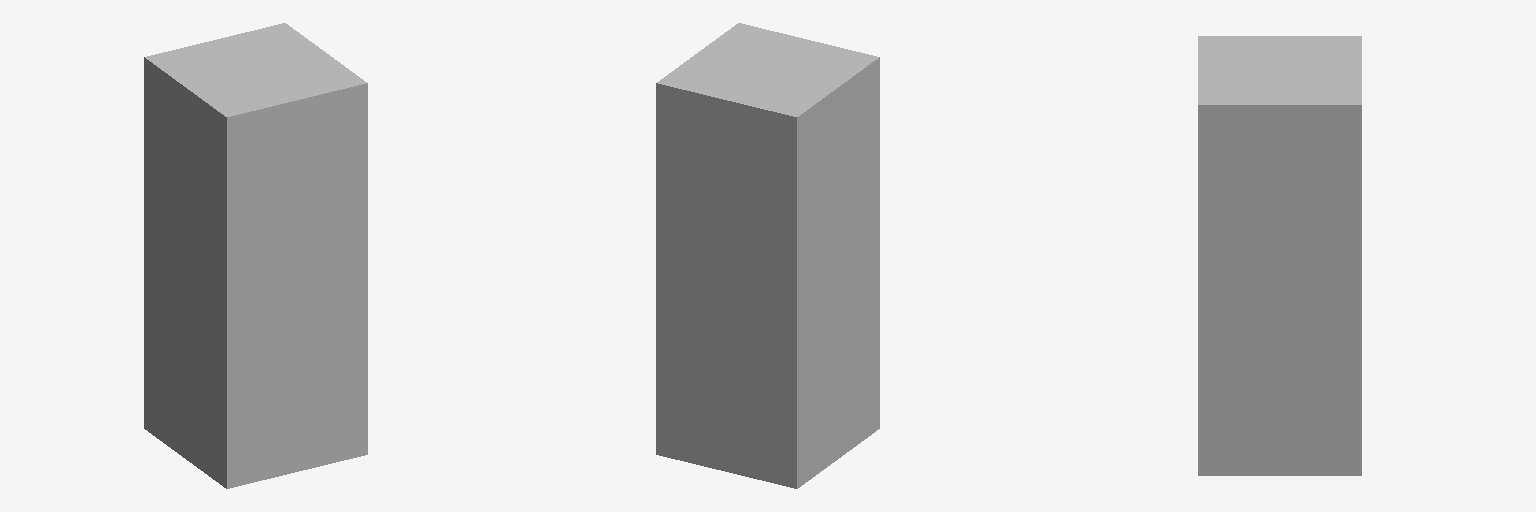
File: pillar.obj
3 views of the same model, side by side, from view 1: azimuth 30°, elevation 25°; view 2: azimuth 150°, elevation 25°; view 3: azimuth 270°, elevation 25° (orthographic).
Visible parts, largest first — view 1: object 1; view 2: object 1; view 3: object 1.
Part boxes in pixels (x1,y1,x2,y2): object 1: (144, 23, 367, 488); object 1: (656, 23, 879, 488); object 1: (1198, 36, 1361, 475).
Bounding box in the file's own units: 7.9 × 19.9 × 8.